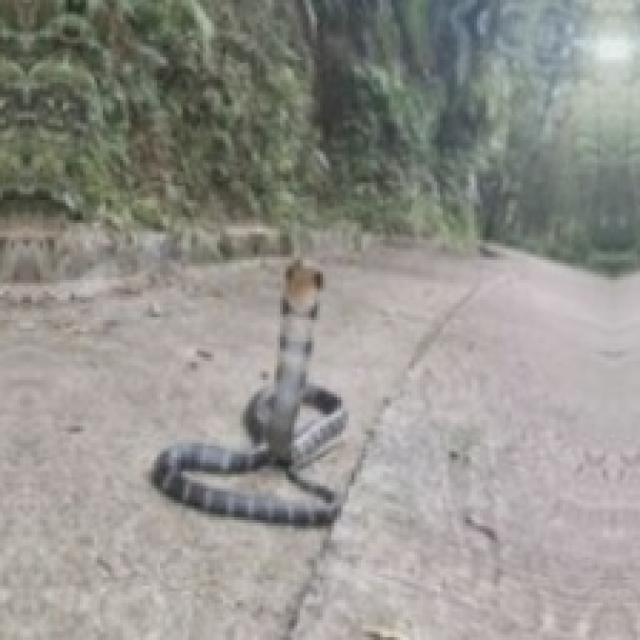king cobra: (151, 260, 346, 523)
